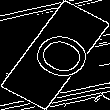O_SE: (16, 23, 94, 87)
